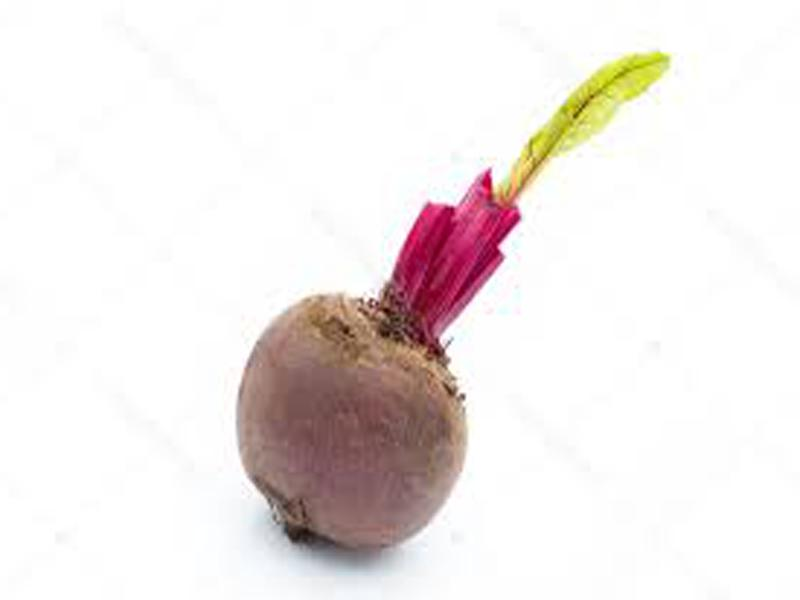Beet: (235, 52, 665, 548)
